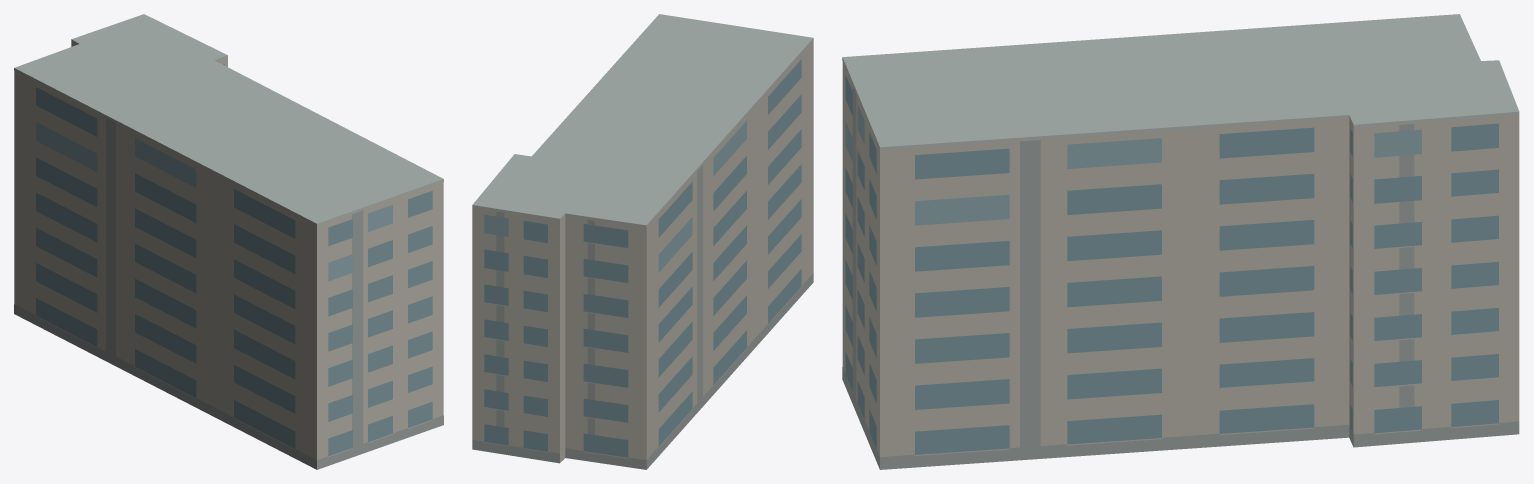
The model's file is survey-upis-32715403.glb.
3 views of the same model, side by side, from view 1: azimuth 30°, elevation 25°; view 2: azimuth 150°, elevation 25°; view 3: azimuth 270°, elevation 25° (orthographic). The views are drawn at different scales.
Parts seen in each view (by area): view 1: survey-upis-32715403.tmp; view 2: survey-upis-32715403.tmp; view 3: survey-upis-32715403.tmp.
Part boxes in pixels (x1,y1,x2,y2): survey-upis-32715403.tmp: (14,14,443,469); survey-upis-32715403.tmp: (472,14,813,469); survey-upis-32715403.tmp: (842,14,1519,469).
Size of the model in its own units: 18.04 by 20.35 by 38.71.
